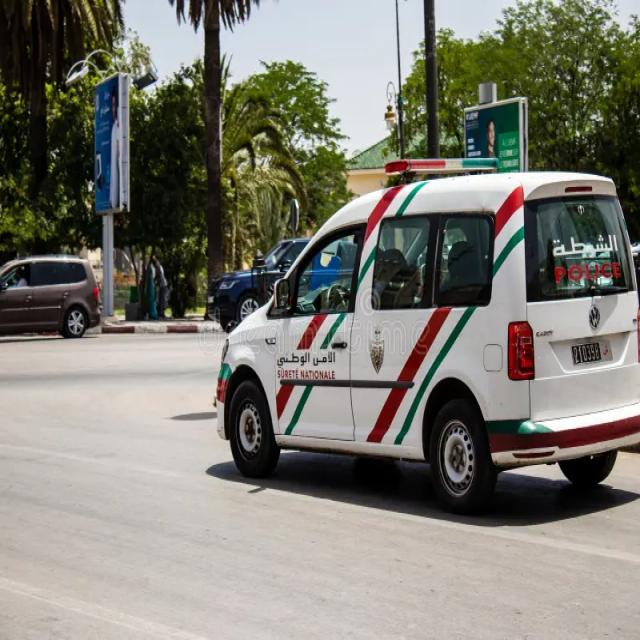police: (218, 155, 636, 501)
